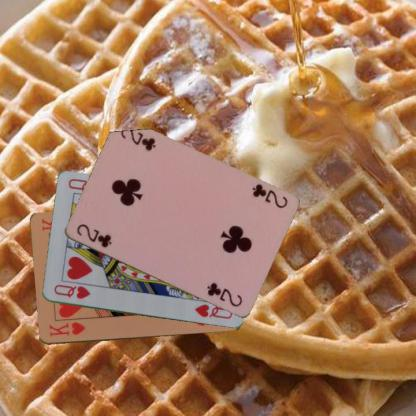2c: (249, 181, 288, 210), (73, 221, 113, 249)
Kh: (46, 320, 87, 338)
Qh: (51, 282, 91, 300)
